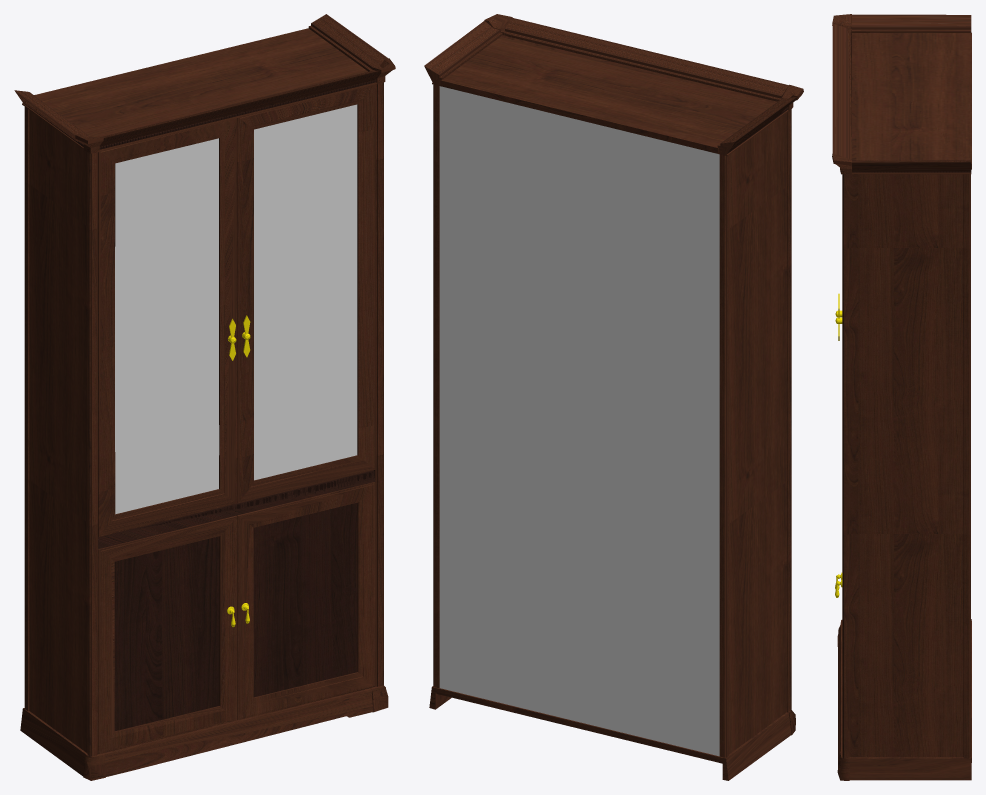
File: forBook.FBX
3 views of the same model, side by side, from view 1: azimuth 30°, elevation 25°; view 2: azimuth 150°, elevation 25°; view 3: azimuth 270°, elevation 25° (orthographic). The views are drawn at different scales.
Parts seen in each view (by area): view 1: Loft24, Box65, Dj_Kabinet_Shkaf, Box70, Plane01, Plane17, Box04; view 2: Box05, Dj_Kabinet_Shkaf, Box70, Plane17, Plane01; view 3: Dj_Kabinet_Shkaf, Box70, Plane17, Plane01.
Boxes of the visible parts, x1,y1,x2,y2 form: Loft24: (98, 84, 375, 753); Box65: (115, 104, 357, 514); Dj_Kabinet_Shkaf: (24, 82, 383, 757); Box70: (34, 28, 370, 753); Plane01: (20, 685, 388, 780); Plane17: (14, 14, 395, 153); Box04: (23, 80, 376, 149); Box05: (439, 86, 719, 756); Dj_Kabinet_Shkaf: (433, 84, 791, 757); Box70: (433, 35, 776, 763); Plane17: (424, 14, 803, 156); Plane01: (429, 686, 795, 780); Dj_Kabinet_Shkaf: (842, 174, 971, 758); Box70: (849, 32, 971, 762); Plane17: (832, 14, 971, 174); Plane01: (837, 619, 971, 780).
Size of the model in its own units: 113 by 221 by 44.91.
